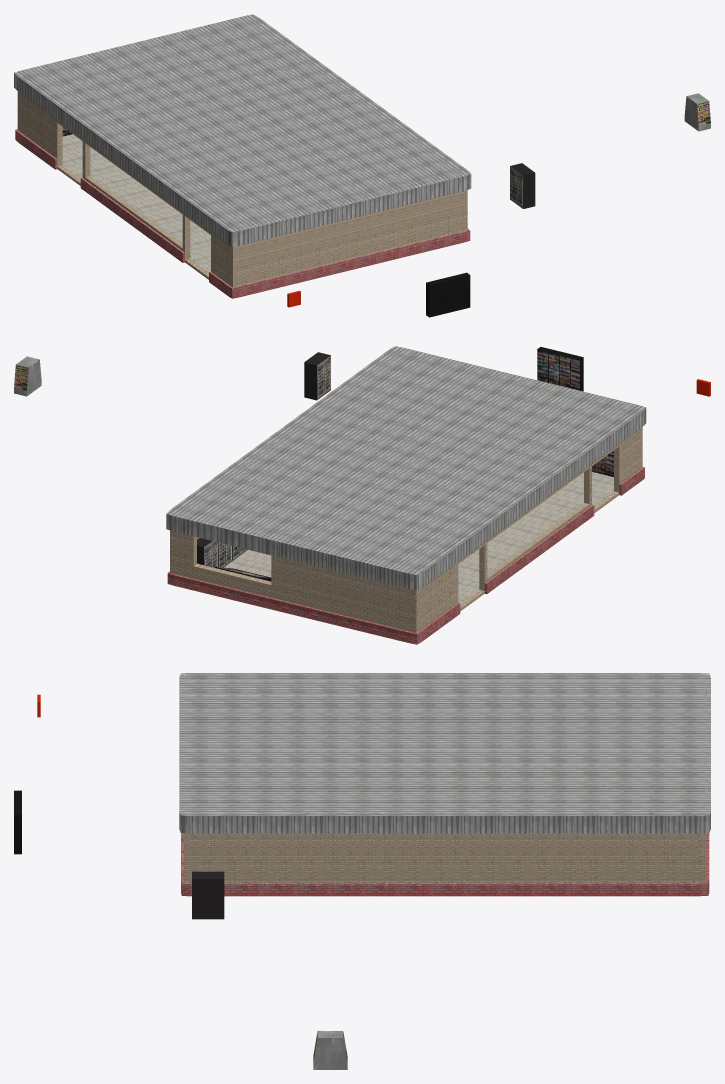
The model's file is conveniencestore.glb.
3 views of the same model, one above another, from view 1: azimuth 30°, elevation 25°; view 2: azimuth 150°, elevation 25°; view 3: azimuth 270°, elevation 25° (orthographic). The views are drawn at different scales.
Parts seen in each view (by area): view 1: convenience store, shelf, fridges.001, shelfmid; view 2: convenience store, shelf, fridges.001, fridges, shelfmid; view 3: convenience store, fridges.001, shelfmid.
Boxes of the visible parts, <box> form: convenience store: <box>14,14,471,298</box>; shelf: <box>426,272,470,317</box>; fridges.001: <box>510,163,535,208</box>; shelfmid: <box>684,93,710,131</box>; convenience store: <box>166,346,646,644</box>; shelf: <box>537,347,583,391</box>; fridges.001: <box>304,352,330,400</box>; fridges: <box>197,538,247,567</box>; shelfmid: <box>14,356,41,396</box>; convenience store: <box>179,673,710,896</box>; fridges.001: <box>192,871,224,919</box>; shelfmid: <box>313,1031,347,1069</box>.
Size of the model in its own units: 87.71 by 10.46 by 81.45.
13 materials, 12 textured.
